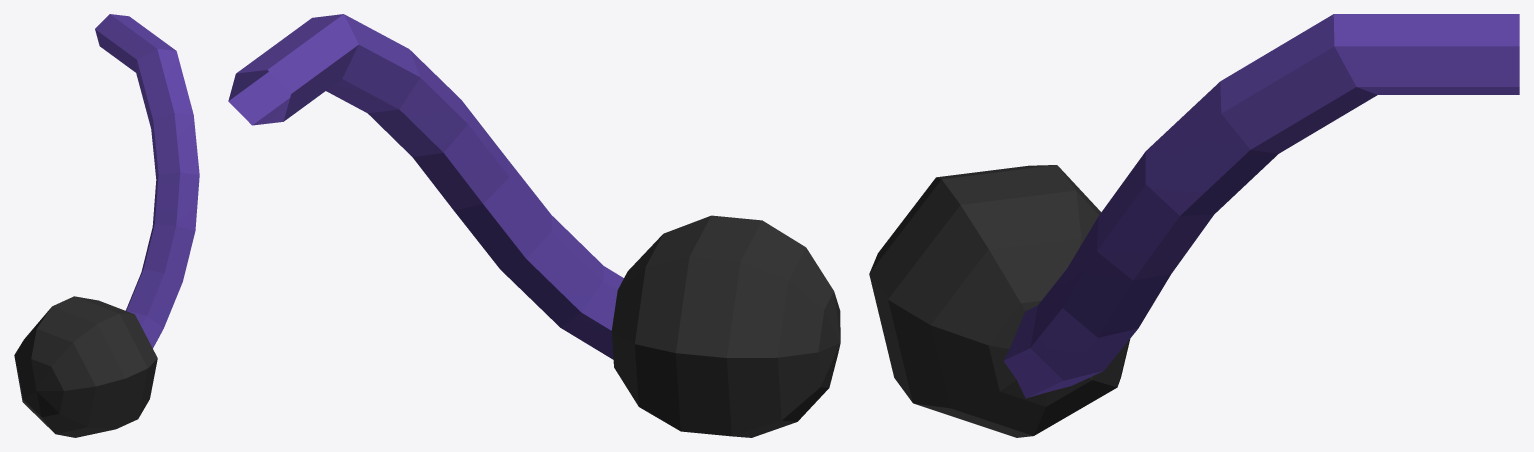
Rendered from SniperRifle1_06_4.fbx.
3 renders of one model, left to right at view 1: azimuth 30°, elevation 25°; view 2: azimuth 150°, elevation 25°; view 3: azimuth 270°, elevation 25°, orthographic. The views are drawn at different scales.
Visible parts, largest first — view 1: SniperRifle1_06_4; view 2: SniperRifle1_06_4; view 3: SniperRifle1_06_4.
Boxes of the visible parts, x1,y1,x2,y2 form: SniperRifle1_06_4: [14, 14, 199, 437]; SniperRifle1_06_4: [228, 14, 840, 437]; SniperRifle1_06_4: [869, 14, 1519, 437].
Size of the model in its own units: 0.05 by 0.0566 by 0.0598.
